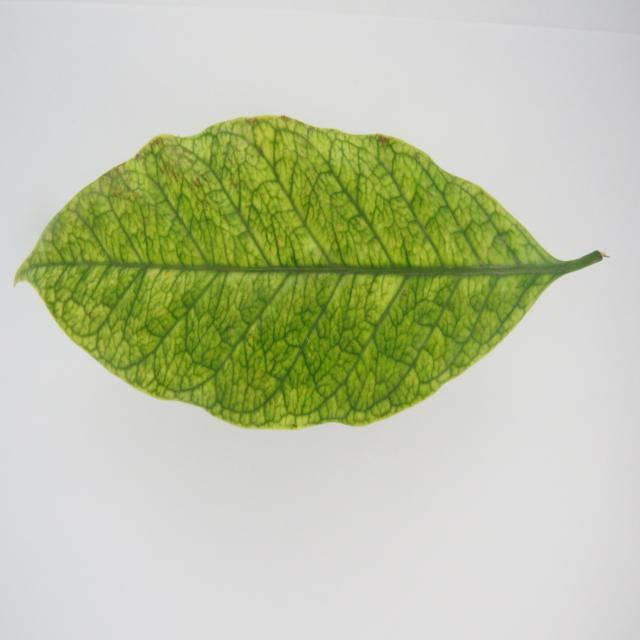DeficienciaNutricional-Hierro: (14, 116, 553, 428)
